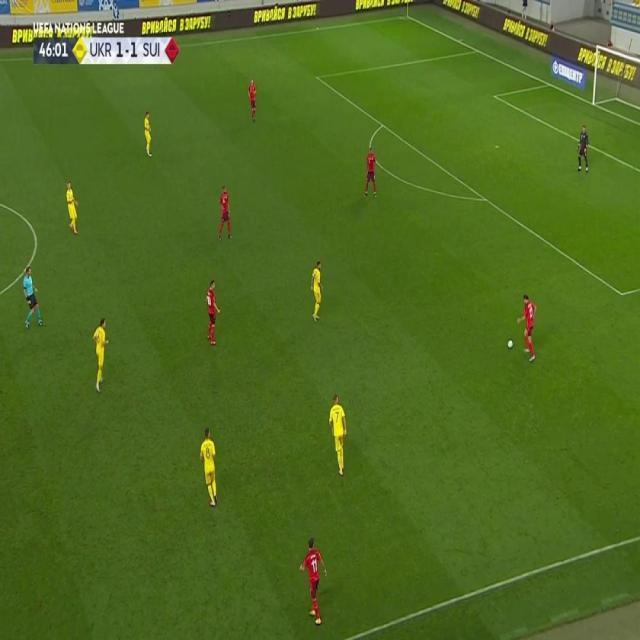ball: (507, 337, 514, 349)
goalkeeper: (576, 125, 591, 173)
player: (298, 536, 328, 627), (199, 427, 219, 509), (328, 394, 348, 476), (516, 293, 538, 362), (93, 317, 110, 392), (204, 279, 223, 346), (217, 184, 234, 241), (363, 145, 379, 200), (310, 260, 324, 322), (64, 180, 79, 234), (143, 111, 154, 157), (247, 77, 257, 123)
referee: (22, 267, 43, 329)
